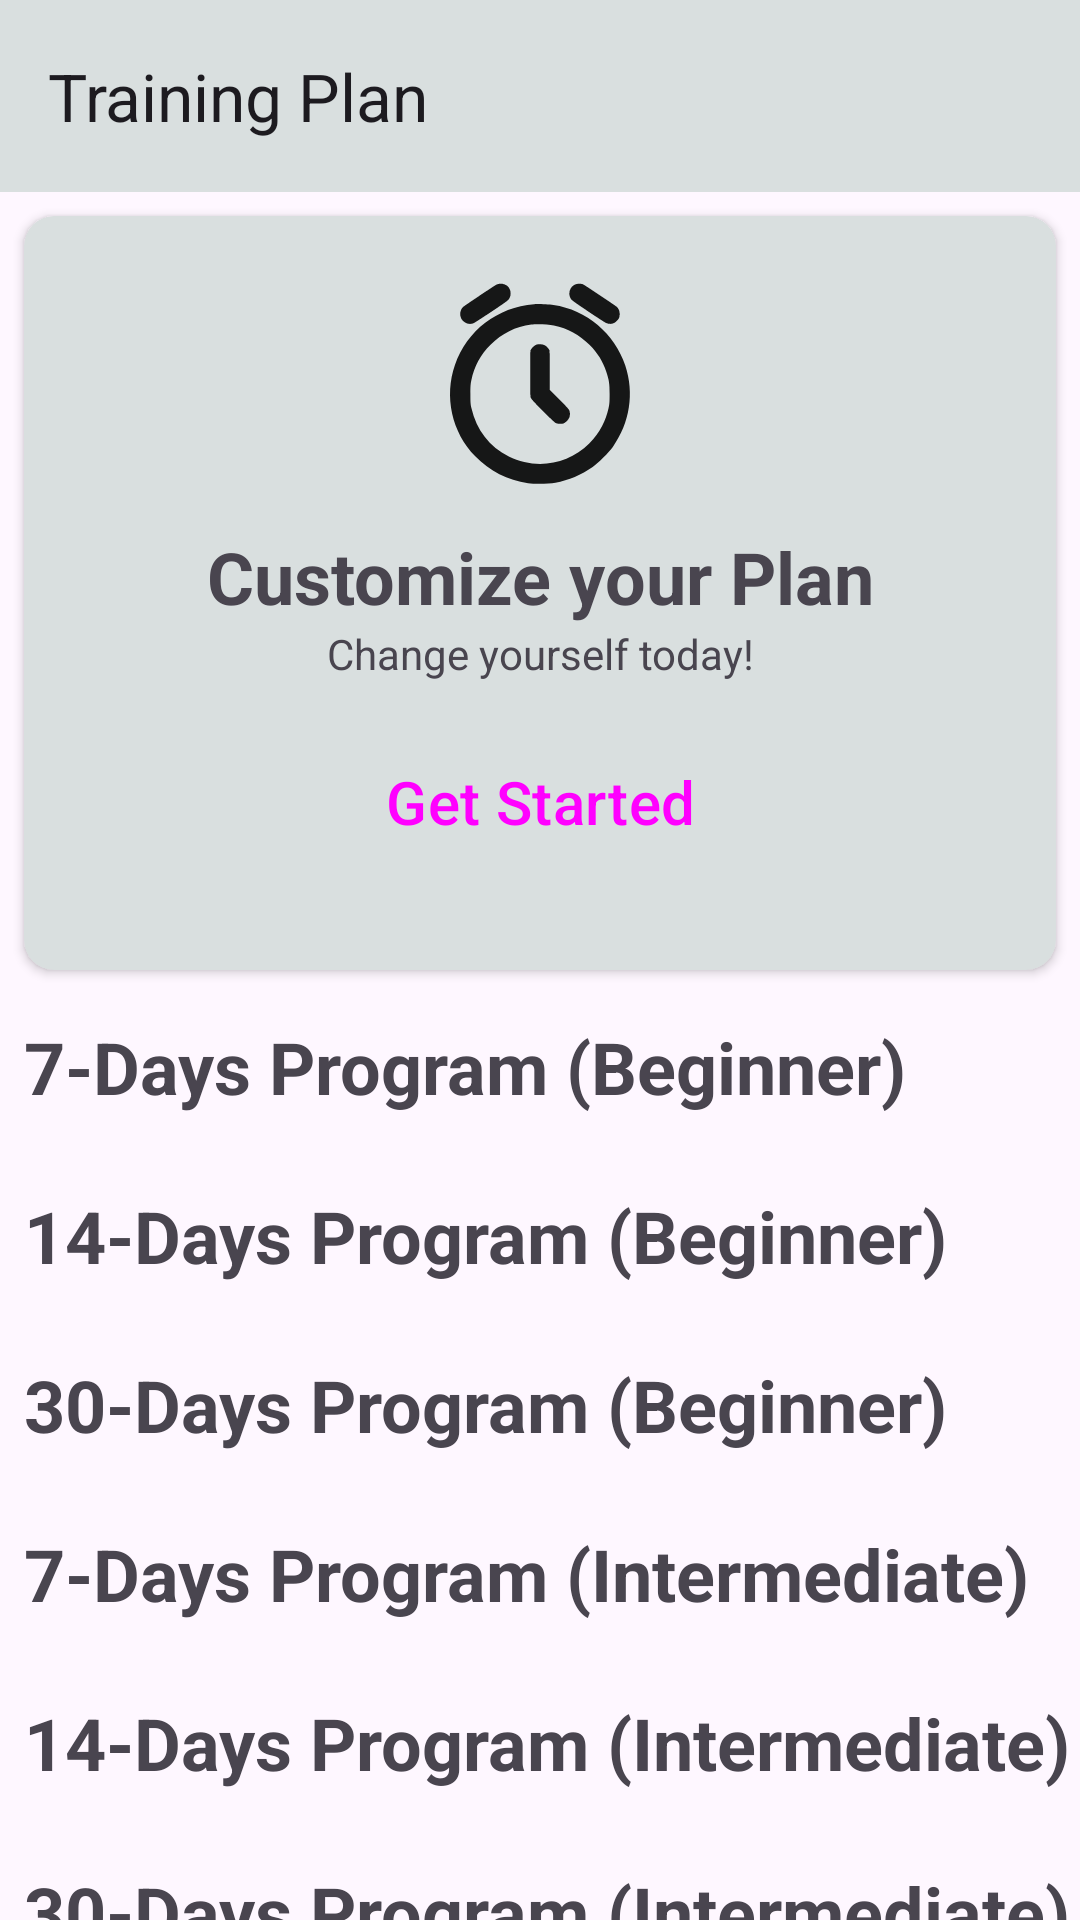

Named icons in this screenshot (1080×1920) and their centers, (x=x, y=y):
reminder: (x=540, y=383)
